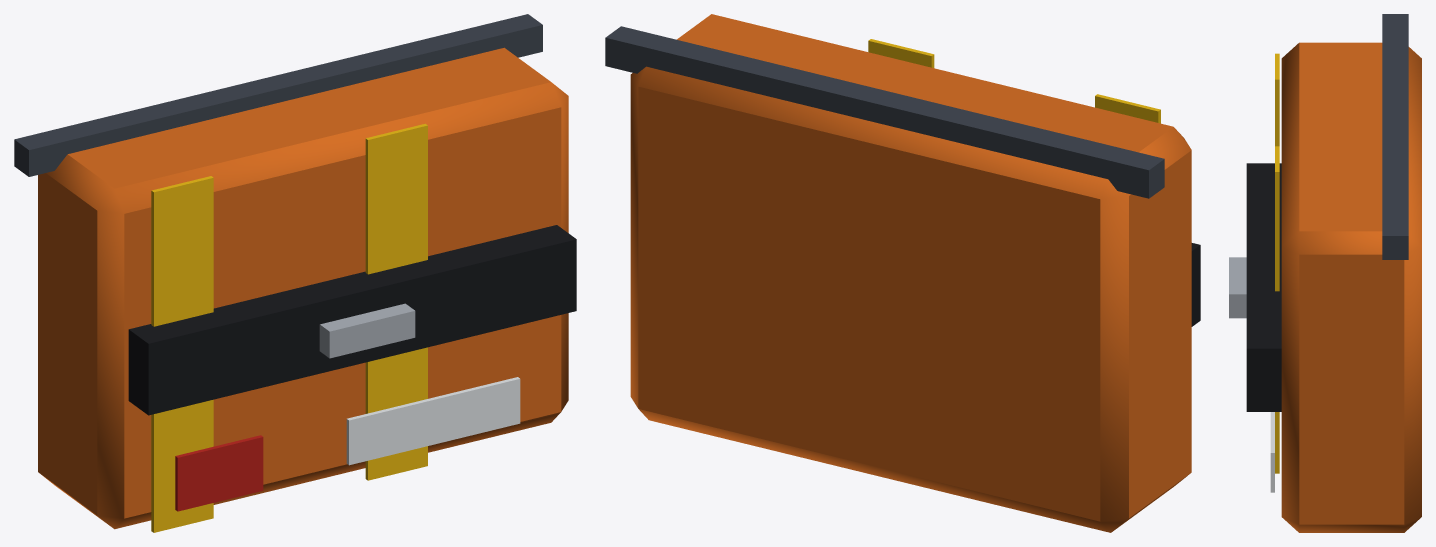
Rendered from safety_breach_repair_kit.glb.
3 renders of one model, left to right at view 1: azimuth 30°, elevation 25°; view 2: azimuth 150°, elevation 25°; view 3: azimuth 270°, elevation 25°, orthographic. The views are drawn at different scales.
Parts seen in each view (by area): view 1: safety_breach_repair_kit; view 2: safety_breach_repair_kit; view 3: safety_breach_repair_kit.
Boxes of the visible parts, x1,y1,x2,y2 form: safety_breach_repair_kit: (14,14,576,532); safety_breach_repair_kit: (605,14,1200,532); safety_breach_repair_kit: (1229,14,1421,532).
Size of the model in its own units: 0.6 by 0.395 by 0.22.
